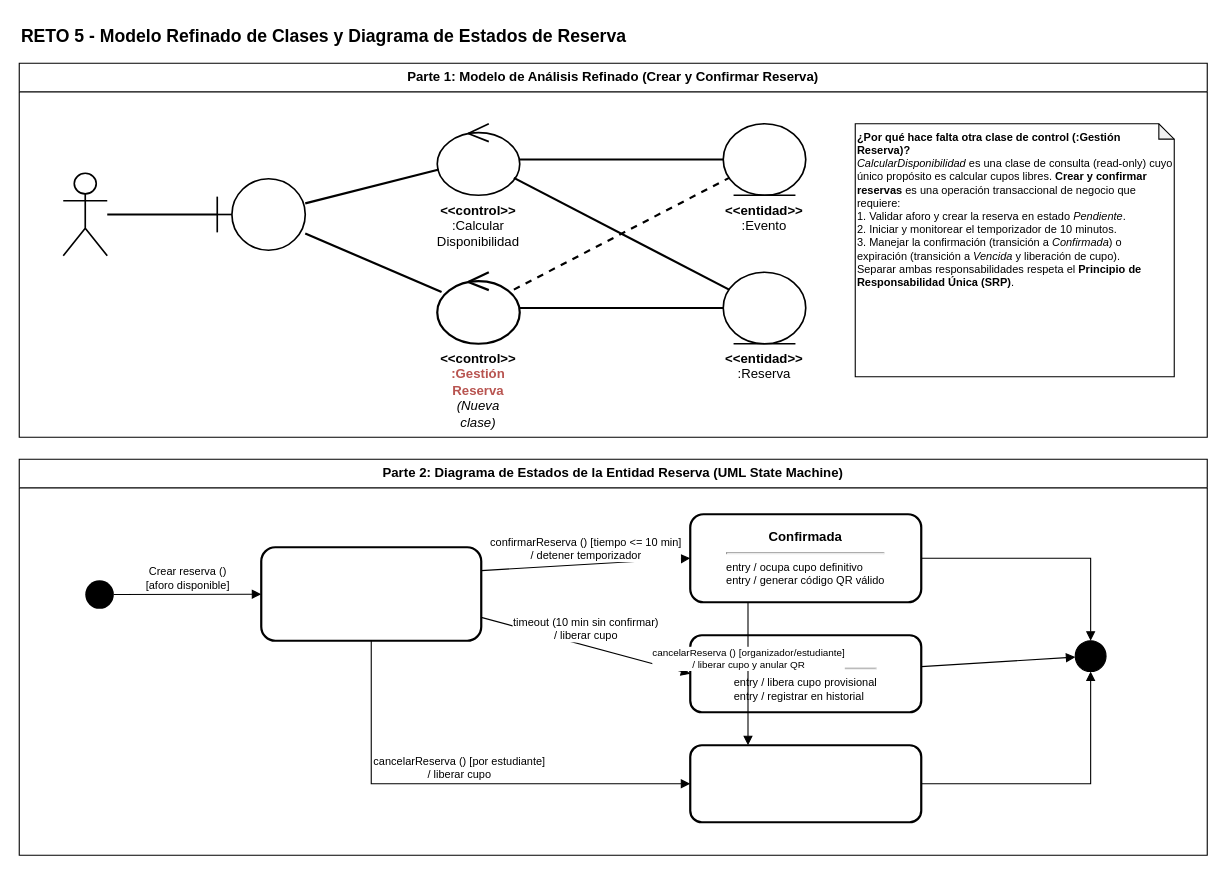
Image size: 1227x875. Some labels were removed from this diagram. The shapes that lost their labels are listed below. From the top down, each one's centre as x and y in pixels, then its label:
At pixel 85 214: "<<actor>> :Estudiante".
At pixel 261 214: "<<límite>> :Pantalla Eventos".
At pixel 371 593: "Pendiente entry / ocupa cupo provisional do / iniciar temporizador(10 min)".
At pixel 805 783: "Cancelada entry / libera cupo (si ocupaba) entry / reportar como historial".
